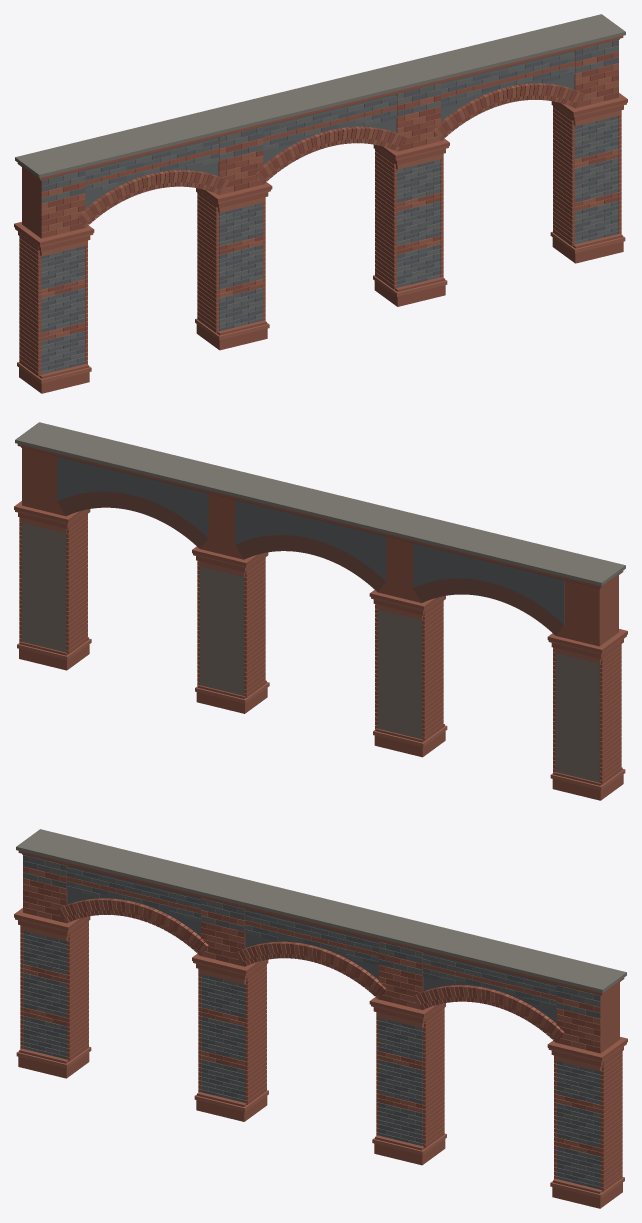
The model's file is hongkou-ohel-moshe-courtyard-brick-arcade-full.glb.
The picture shows the model from 3 angles, top to bottom: view 1: azimuth 30°, elevation 25°; view 2: azimuth 150°, elevation 25°; view 3: azimuth 330°, elevation 25°; orthographic projection.
Visible parts, largest first — view 1: 摩西会堂庭院首层三连砖券; view 2: 摩西会堂庭院首层三连砖券; view 3: 摩西会堂庭院首层三连砖券.
Boxes of the visible parts, box(x1,y1,x2,y2) form: 摩西会堂庭院首层三连砖券: box(14, 14, 627, 393); 摩西会堂庭院首层三连砖券: box(14, 422, 627, 800); 摩西会堂庭院首层三连砖券: box(14, 829, 627, 1208).
Size of the model in its own units: 10.18 by 3.63 by 0.779.
